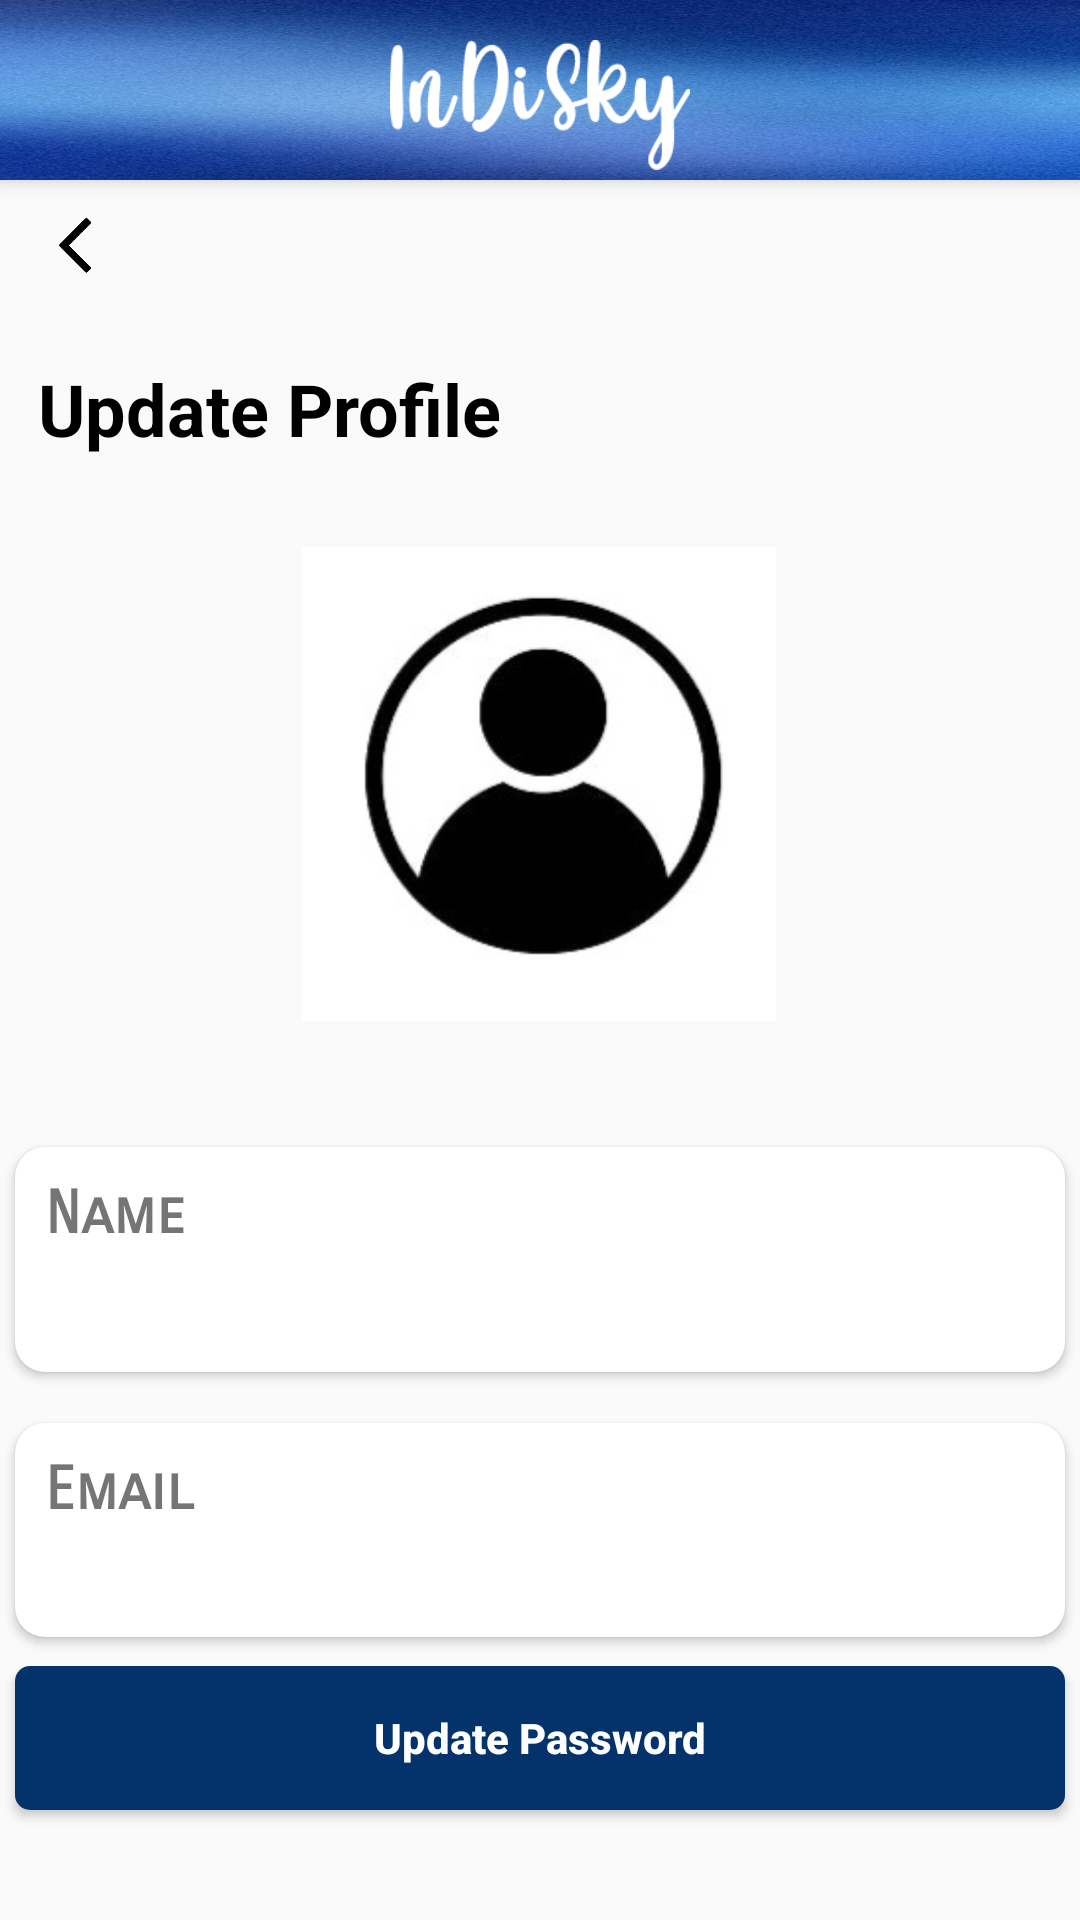

Icons on this 1080px×1920px Android screen, each with the point to tap as (x,y):
leftarrow: (75,245)
